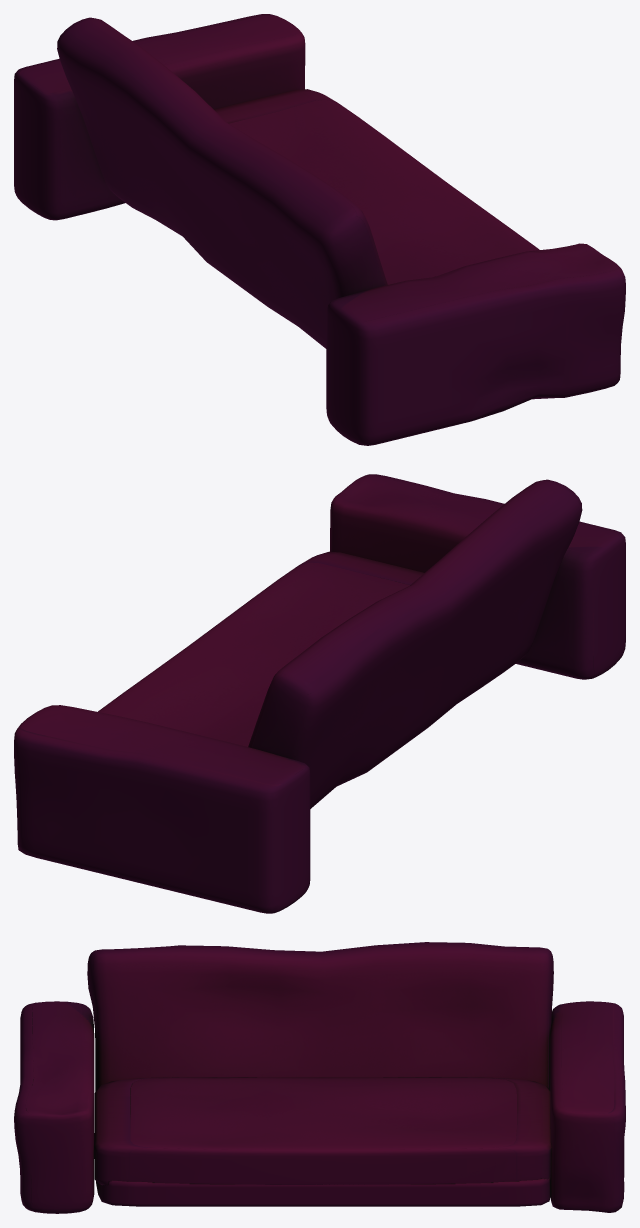
Rendered from sofa.fbx.
The picture shows the model from 3 angles, top to bottom: view 1: azimuth 30°, elevation 25°; view 2: azimuth 150°, elevation 25°; view 3: azimuth 270°, elevation 25°; orthographic projection. The views are drawn at different scales.
Parts seen in each view (by area): view 1: Cube.002; view 2: Cube.002; view 3: Cube.002.
Boxes of the visible parts, x1,y1,x2,y2 form: Cube.002: (14, 14, 625, 445); Cube.002: (14, 474, 625, 913); Cube.002: (14, 942, 625, 1213).
Size of the model in its own units: 2.92 by 2.15 by 6.84.
1 material, 1 textured.
